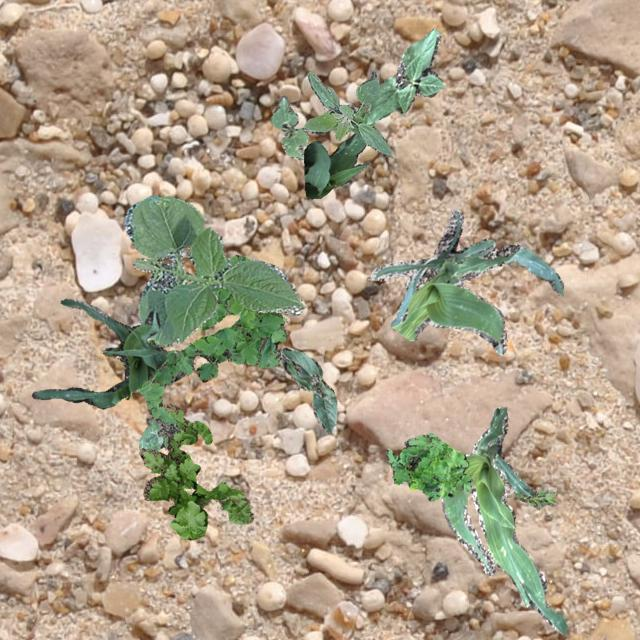crop: (440, 407, 566, 632), (368, 208, 562, 354), (124, 194, 304, 346), (30, 298, 166, 408), (302, 70, 376, 198), (366, 28, 442, 122), (280, 346, 336, 434), (268, 94, 306, 158), (138, 418, 168, 450)
weed: (120, 253, 286, 434), (138, 402, 252, 538), (303, 70, 392, 156), (384, 432, 472, 499), (514, 488, 556, 510)
